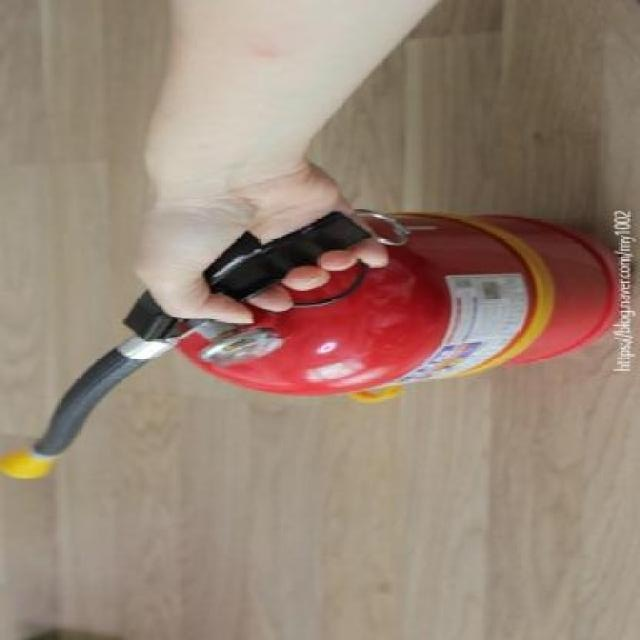fire extinguisher: (0, 210, 626, 481)
